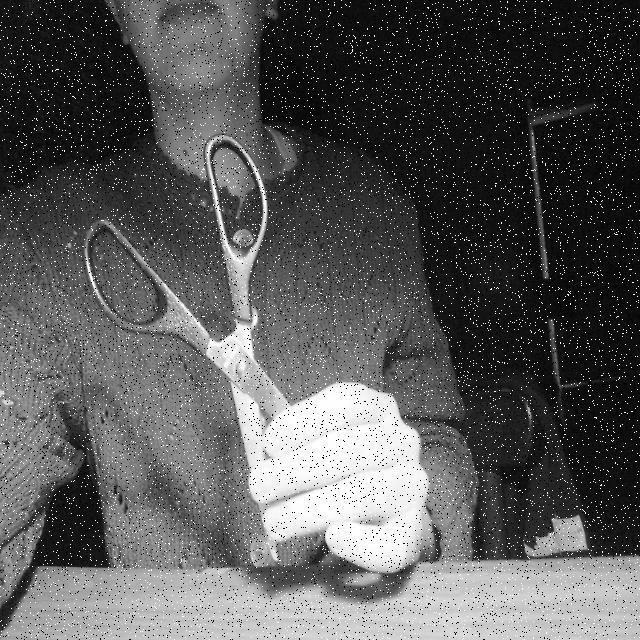scissors: (78, 118, 377, 597)
